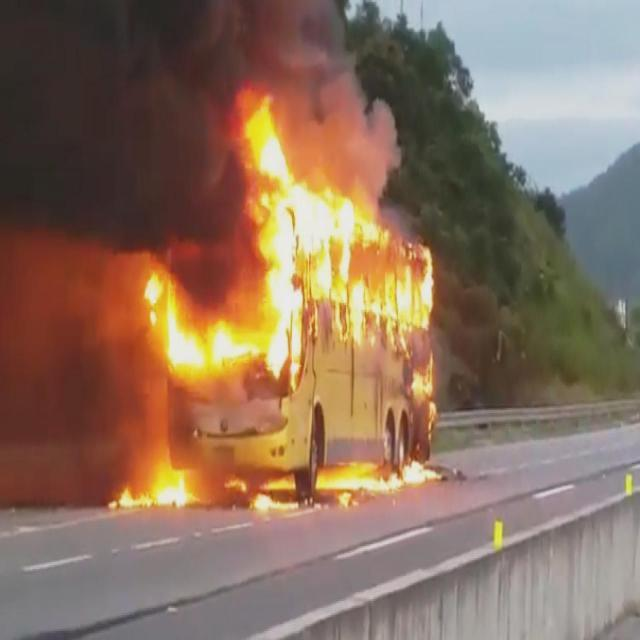Fire: (246, 99, 434, 384), (140, 276, 246, 378), (97, 465, 200, 512), (321, 462, 444, 489), (408, 352, 436, 429), (250, 492, 302, 514), (262, 470, 298, 490), (222, 476, 246, 492)
